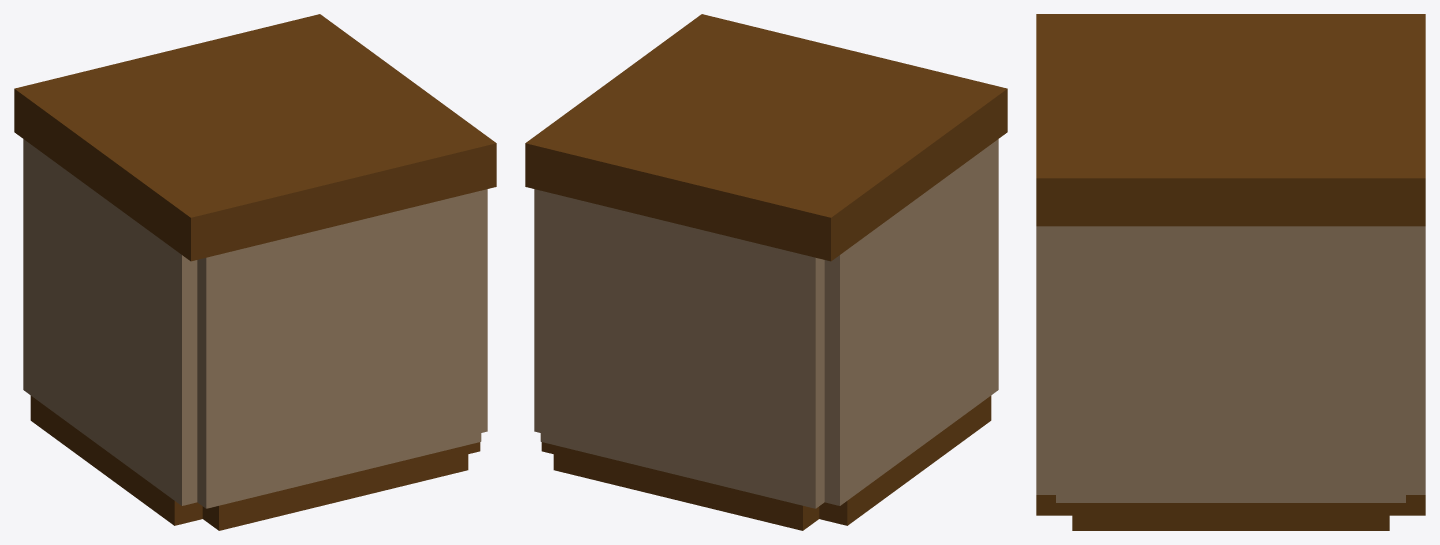
The model's file is SM_Bench_Corner_Central.fbx.
3 views of the same model, side by side, from view 1: azimuth 30°, elevation 25°; view 2: azimuth 150°, elevation 25°; view 3: azimuth 270°, elevation 25° (orthographic). The views are drawn at different scales.
Parts seen in each view (by area): view 1: SM_Bench_Corner_Central; view 2: SM_Bench_Corner_Central; view 3: SM_Bench_Corner_Central.
Part boxes in pixels (x1,y1,x2,y2): SM_Bench_Corner_Central: (14,14,496,530); SM_Bench_Corner_Central: (525,14,1007,530); SM_Bench_Corner_Central: (1036,14,1425,530).
Bounding box in the file's own units: 100 × 100 × 100.
